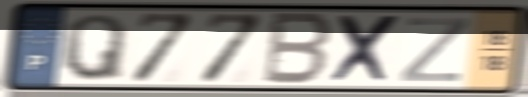7: (200, 11, 265, 86), (131, 11, 196, 86)
B: (259, 9, 336, 88)
Q: (59, 12, 129, 83)
X: (328, 12, 405, 86)
Z: (396, 15, 473, 84)
